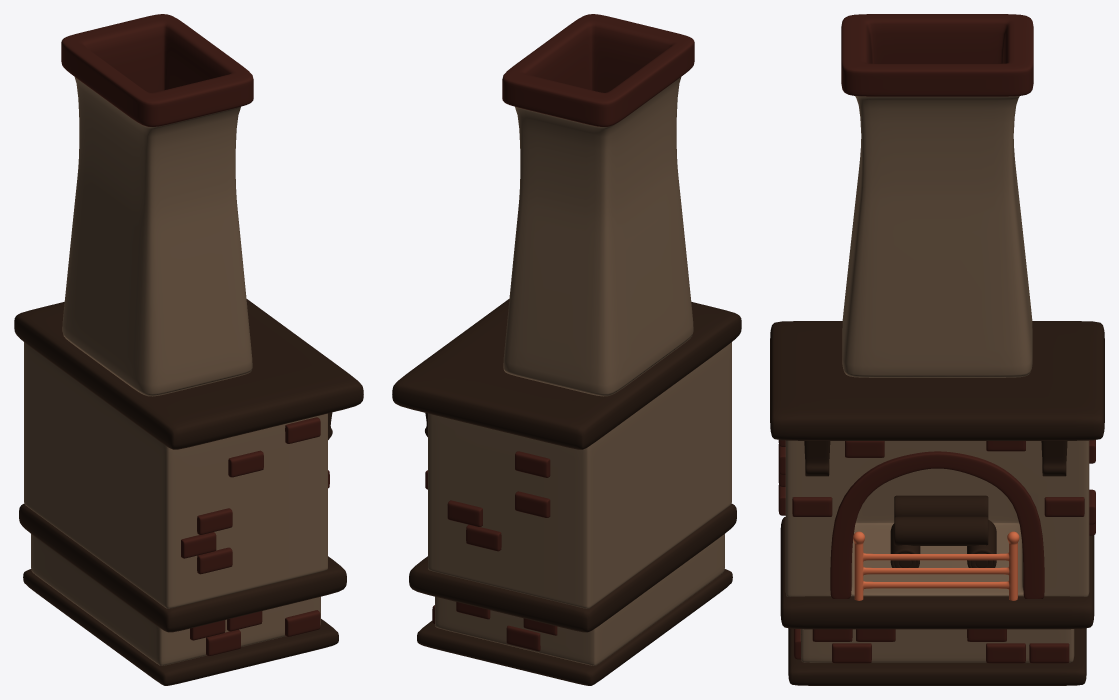
File: fireplace.obj
The picture shows the model from 3 angles, left to right: view 1: azimuth 30°, elevation 25°; view 2: azimuth 150°, elevation 25°; view 3: azimuth 270°, elevation 25°; orthographic projection. The views are drawn at different scales.
Visible parts, largest first — view 1: Cube.019, Cube.008, Cube.009, Cube.007, Cube.006, Cube.005, Cube.035; view 2: Cube.019, Cube.008, Cube.009, Cube.006, Cube.007, Cube.005, Cube.035; view 3: Cube.019, Cube.009, Cube.008, Cube.007, Cube.035, Cube.063, Cube.005, Cube.006, Cylinder.009, Cylinder.079, Cylinder.078, Cube.004 (+2 smaller).
Boxes of the visible parts, bbox=[...] form: Cube.019: bbox=[61, 14, 253, 396]; Cube.008: bbox=[24, 342, 327, 608]; Cube.009: bbox=[14, 299, 363, 449]; Cube.007: bbox=[19, 503, 346, 632]; Cube.006: bbox=[31, 534, 320, 665]; Cube.005: bbox=[23, 569, 338, 685]; Cube.035: bbox=[181, 417, 329, 656]; Cube.019: bbox=[502, 14, 694, 396]; Cube.008: bbox=[428, 342, 731, 608]; Cube.009: bbox=[392, 299, 741, 449]; Cube.006: bbox=[435, 534, 724, 665]; Cube.007: bbox=[409, 503, 736, 632]; Cube.005: bbox=[417, 569, 732, 685]; Cube.035: bbox=[425, 451, 557, 651]; Cube.019: bbox=[841, 14, 1033, 377]; Cube.009: bbox=[770, 321, 1104, 440]; Cube.008: bbox=[785, 440, 1089, 596]; Cube.007: bbox=[780, 517, 1094, 629]; Cube.035: bbox=[778, 440, 1095, 663]; Cube.063: bbox=[830, 451, 1044, 598]; Cube.005: bbox=[788, 628, 1086, 685]; Cube.006: bbox=[800, 629, 1074, 662]; Cylinder.009: bbox=[853, 531, 1019, 600]; Cylinder.079: bbox=[894, 516, 988, 545]; Cylinder.078: bbox=[894, 495, 988, 517]; Cube.004: bbox=[804, 441, 1067, 476].
Bounding box in the file's own units: 1.96 × 5.45 × 2.81.
